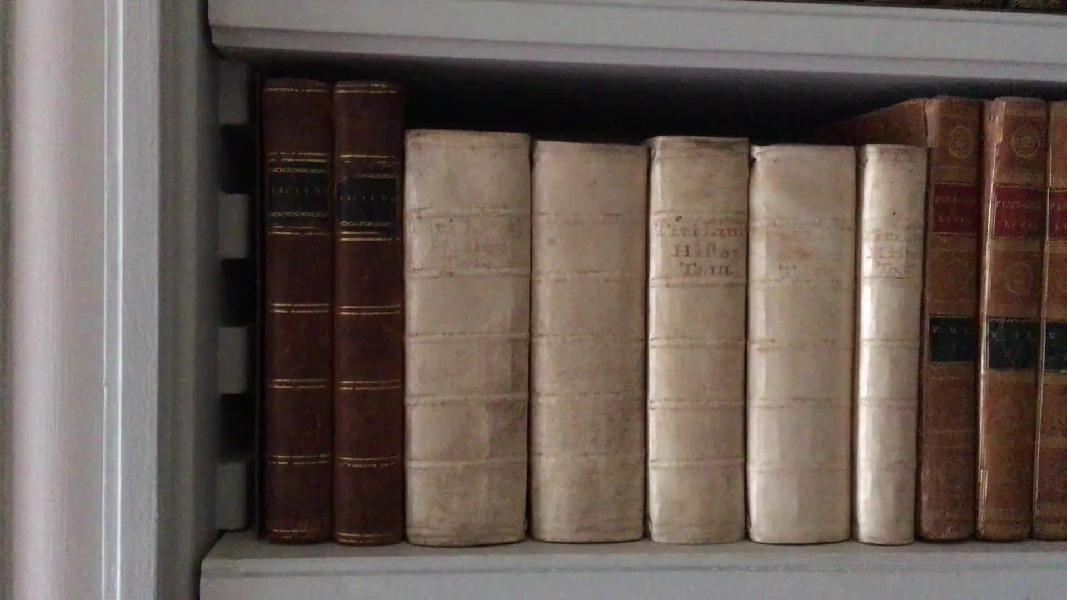Kk4-1_2: (260, 71, 405, 550)
Kk4-3_7: (404, 122, 920, 543)
